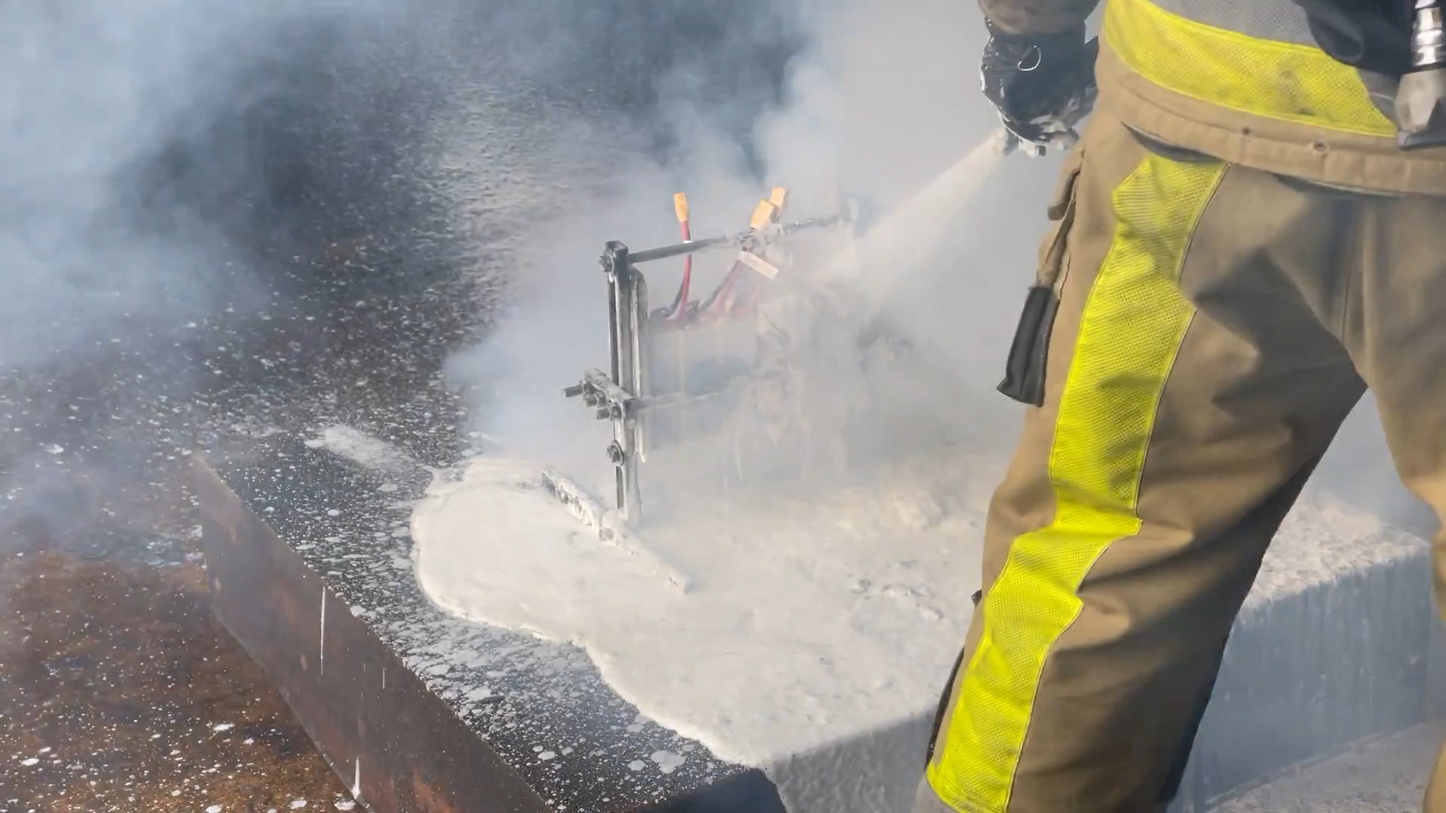smoke: (0, 0, 969, 460)
